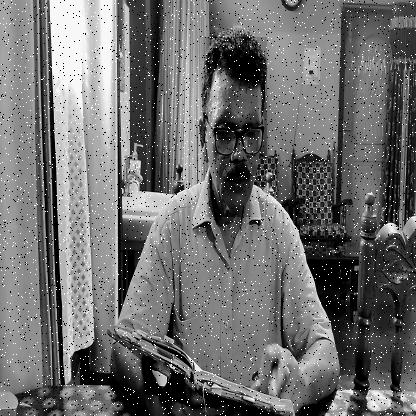Normal: (204, 37, 267, 217)
